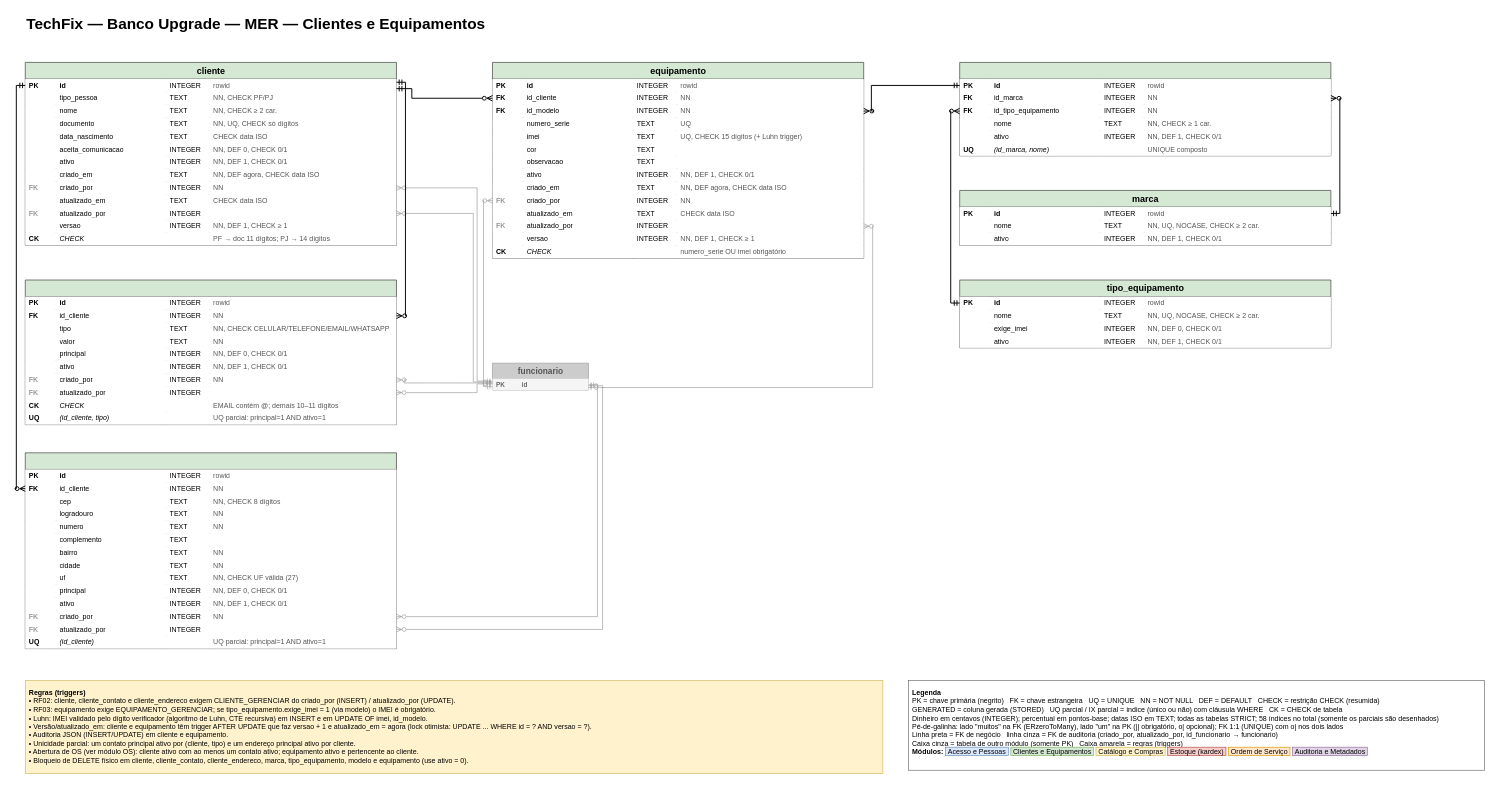
The diagram is 1496 pixels wide and 785 high, and some of its shapes have lost their labels. Each missing label, with the box of its shape:
cliente_contato: (25, 279, 396, 425)
cliente_endereco: (25, 452, 396, 649)
modelo: (959, 62, 1331, 156)
